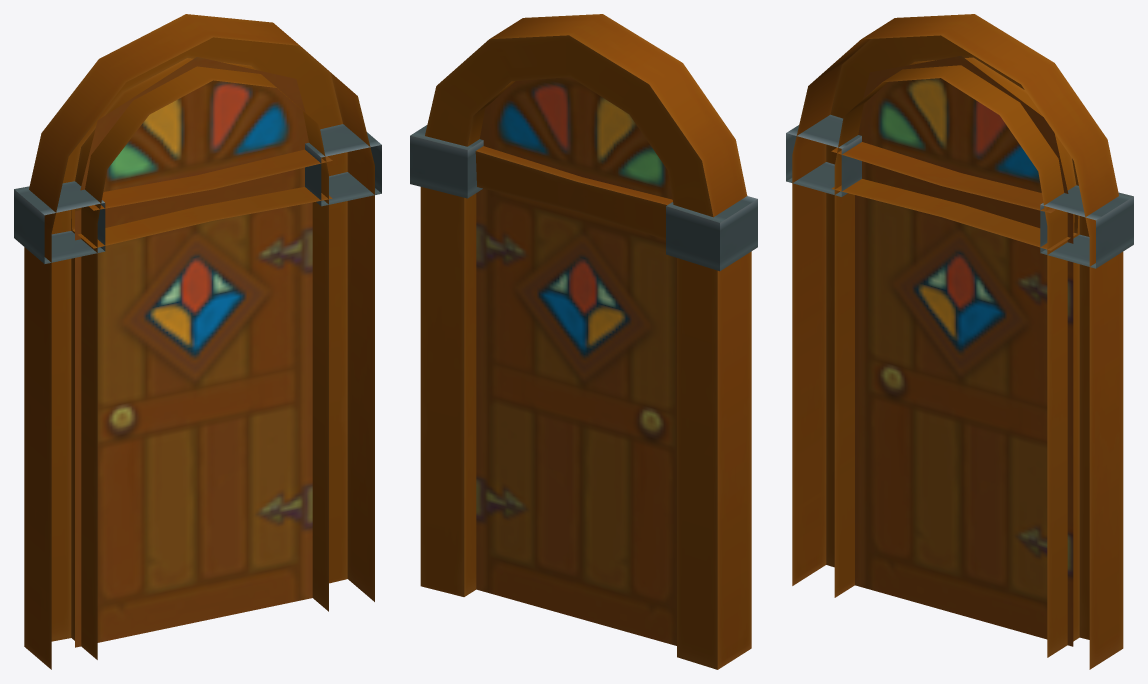
File: ARC0110027.fbx
The picture shows the model from 3 angles, left to right: view 1: azimuth 30°, elevation 25°; view 2: azimuth 150°, elevation 25°; view 3: azimuth 330°, elevation 25°; orthographic projection.
Parts seen in each view (by area): view 1: smARC0110027; view 2: smARC0110027; view 3: smARC0110027.
Part boxes in pixels (<box>): smARC0110027: <box>14,14,381,669</box>; smARC0110027: <box>410,14,757,669</box>; smARC0110027: <box>786,14,1133,669</box>.
Bounding box in the file's own units: 172 × 299 × 42.17.
Materials: 1 (1 with a texture image).
